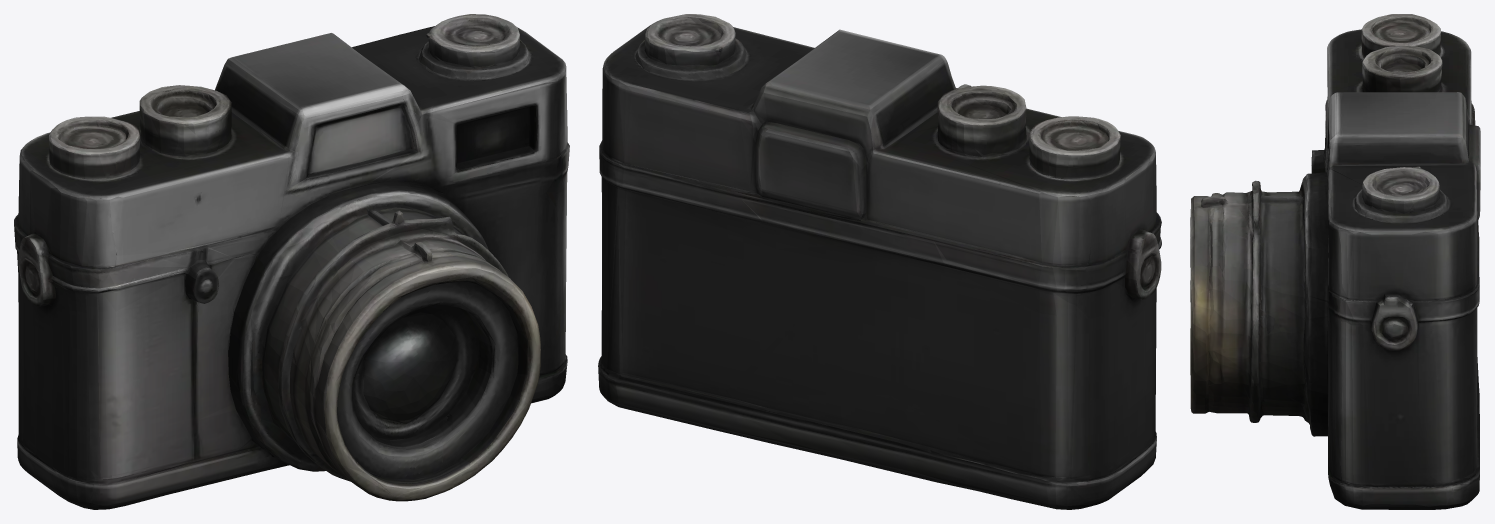
Rendered from camera.glb.
The picture shows the model from 3 angles, left to right: view 1: azimuth 30°, elevation 25°; view 2: azimuth 150°, elevation 25°; view 3: azimuth 270°, elevation 25°; orthographic projection. The views are drawn at different scales.
Parts seen in each view (by area): view 1: world; view 2: world; view 3: world.
Part boxes in pixels (box(x1,y1,x2,y2)): world: box(14, 14, 569, 509); world: box(598, 14, 1161, 509); world: box(1190, 14, 1480, 509).
Bounding box in the file's own units: 0.9949 × 0.6401 × 0.5467.
Materials: 1 (1 with a texture image).
